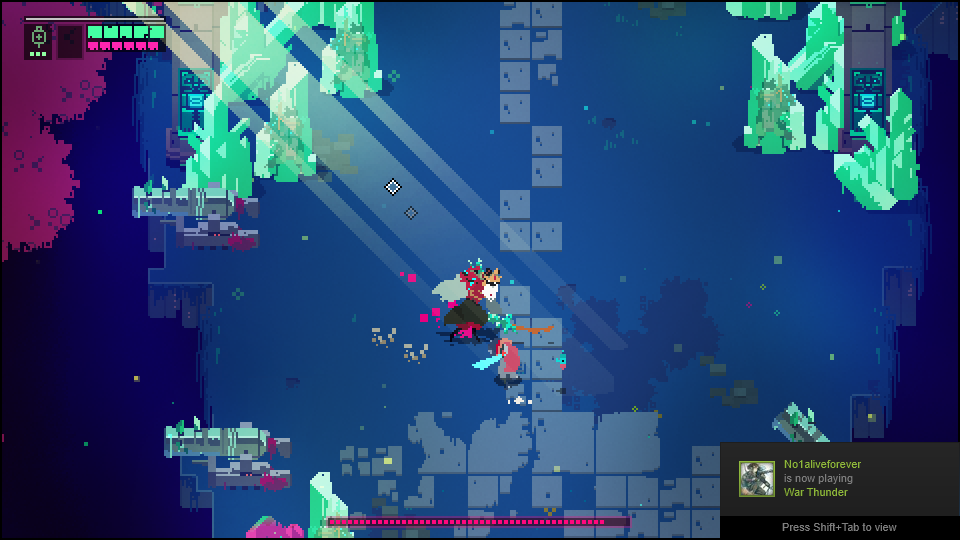hanged_man: (430, 257, 531, 352)
player: (467, 334, 528, 390)
